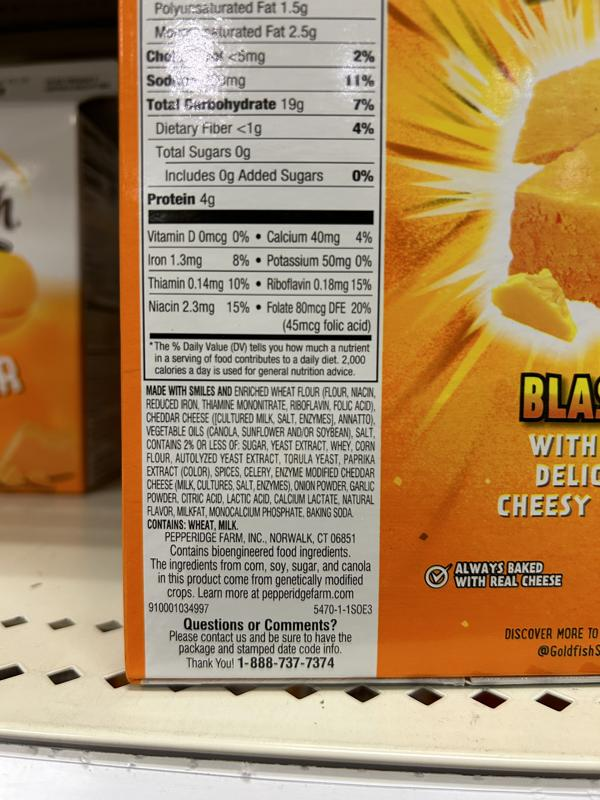ingredients: (144, 384, 377, 519)
